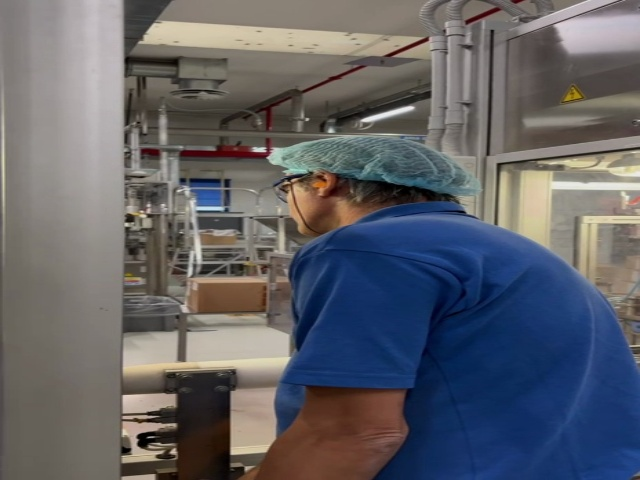Earplug: (311, 167, 337, 199)
Hairnet: (274, 134, 473, 193)
No_Helmet: (274, 135, 473, 186)
No_Vest: (293, 224, 640, 480)
Person: (271, 135, 640, 480)
Safety_Goggles: (273, 170, 314, 205)
